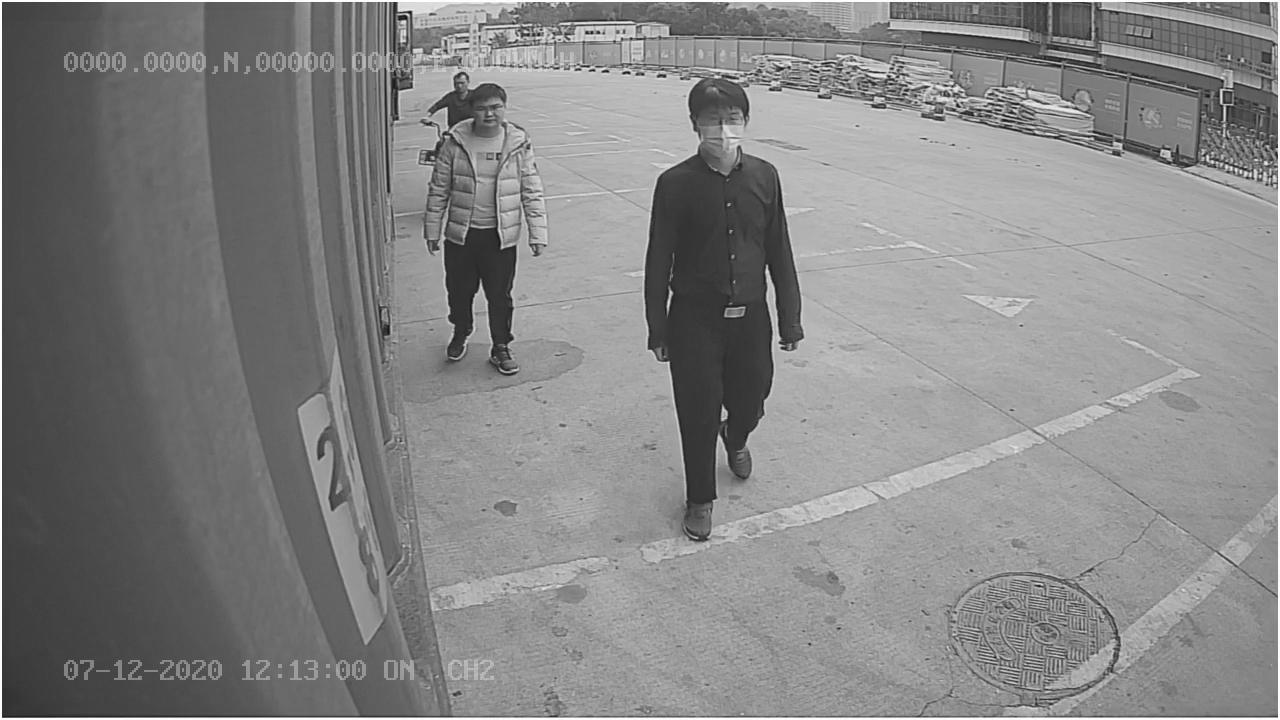person: (649, 76, 801, 542)
